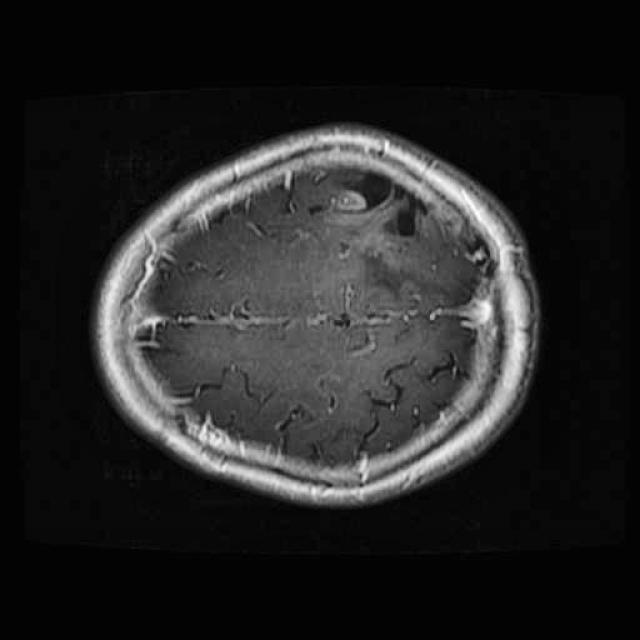Tumor: (305, 151, 484, 311)
